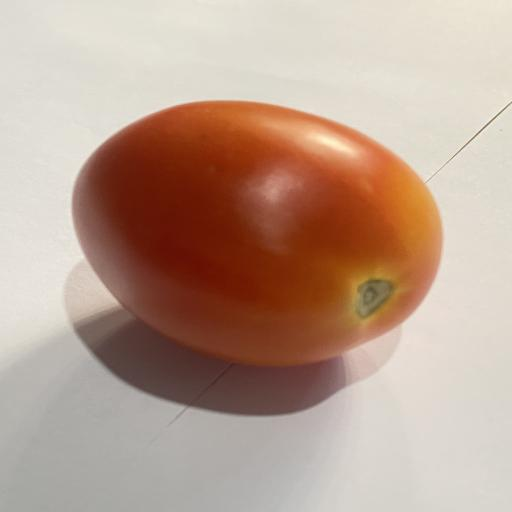ripe: (72, 101, 442, 366)
